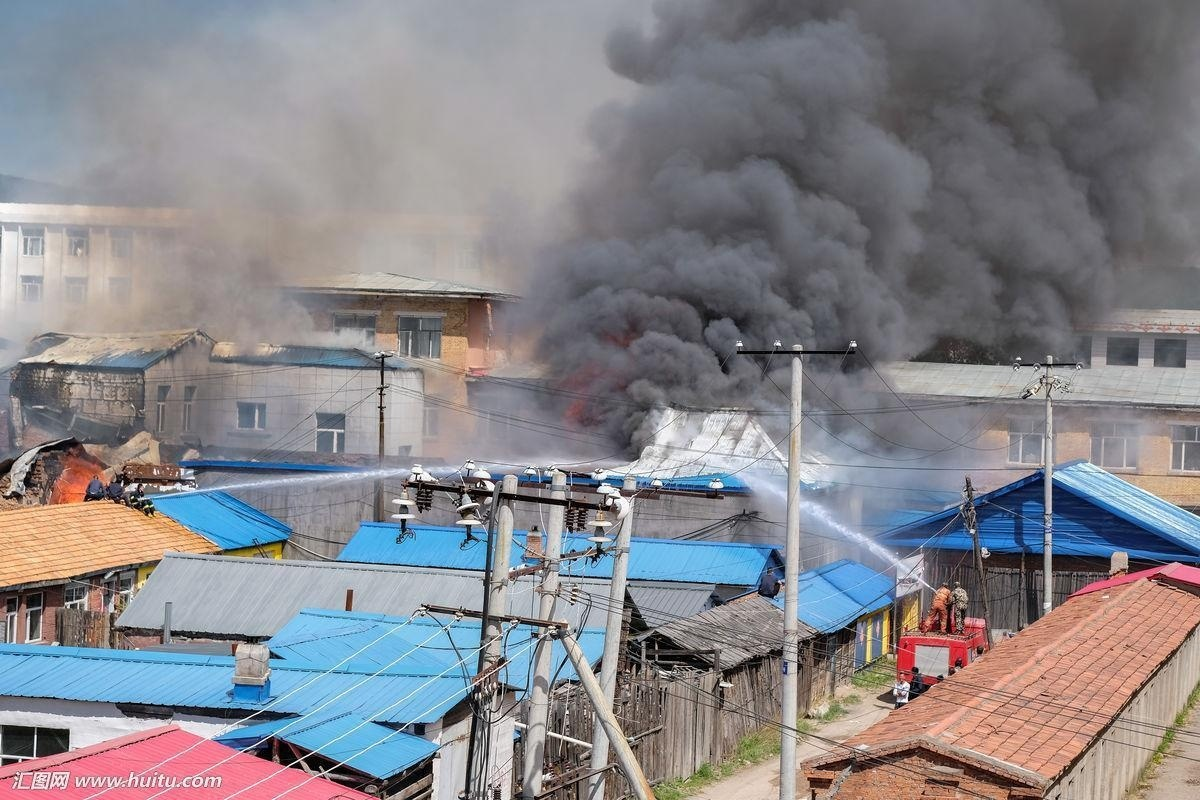fire: (50, 453, 112, 502)
